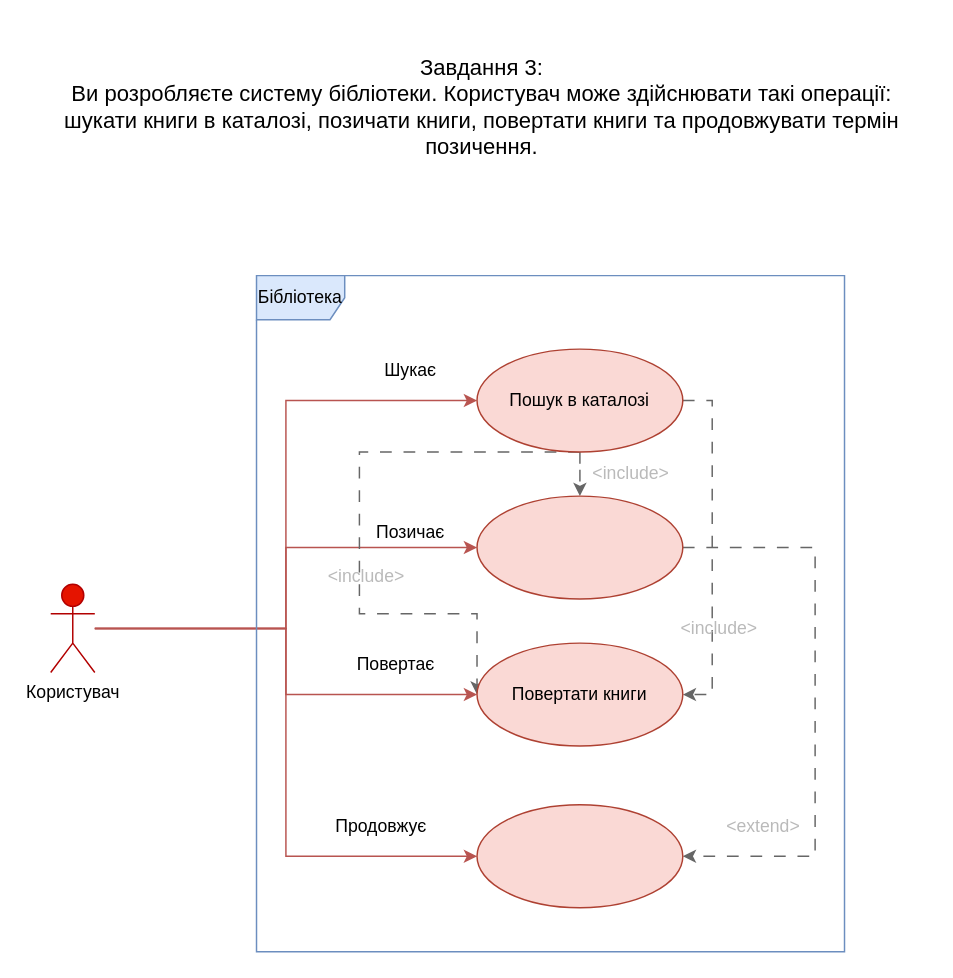
Image size: 953x978. Some labels were removed from this diagram. Each missing label, with the centre of its shape:
"Позичати книги" goes at pixel 579 547.
"Продовжувати термін" goes at pixel 579 855.
